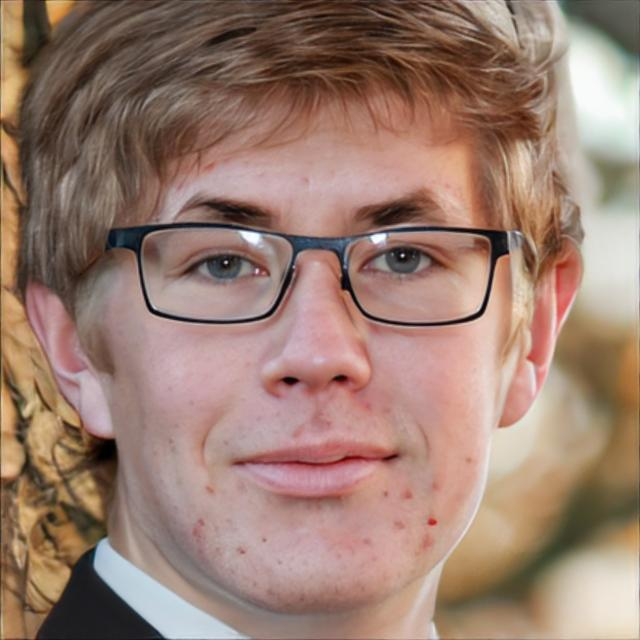content: (109, 72, 508, 612)
